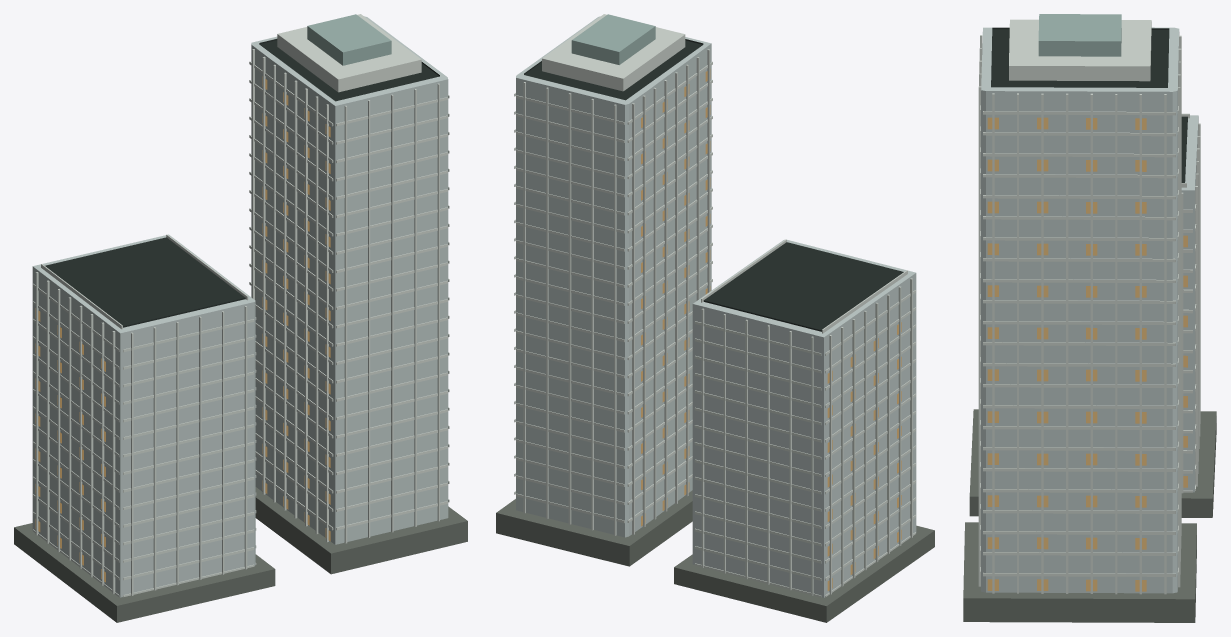
Rendered from venture-east-wall.glb.
3 views of the same model, side by side, from view 1: azimuth 30°, elevation 25°; view 2: azimuth 150°, elevation 25°; view 3: azimuth 270°, elevation 25° (orthographic). The views are drawn at different scales.
Parts seen in each view (by area): view 1: envelope, fins, floor_bands, podium, roof_deck, crown_step, night_windows, crown_screen, parapet; view 2: envelope, fins, floor_bands, podium, roof_deck, crown_step, night_windows, crown_screen, parapet; view 3: envelope, fins, floor_bands, podium, night_windows, crown_step, roof_deck, crown_screen.
Part boxes in pixels (box(x1,y1,x2,y2)): envelope: box(32, 16, 448, 597); fins: box(35, 49, 439, 595); floor_bands: box(33, 61, 449, 596); podium: box(14, 487, 467, 622); roof_deck: box(45, 39, 439, 327); crown_step: box(277, 14, 421, 92); night_windows: box(35, 76, 330, 582); crown_screen: box(307, 14, 391, 65); parapet: box(41, 234, 248, 329); envelope: box(516, 16, 916, 597); fins: box(523, 49, 912, 595); floor_bands: box(514, 61, 915, 597); podium: box(496, 490, 934, 622); roof_deck: box(524, 39, 903, 331); crown_step: box(542, 14, 685, 91); night_windows: box(641, 69, 901, 590); crown_screen: box(571, 14, 655, 64); parapet: box(701, 239, 907, 333); envelope: box(981, 27, 1198, 593); fins: box(978, 35, 1200, 594); floor_bands: box(980, 105, 1196, 576); podium: box(963, 409, 1216, 622); night_windows: box(987, 117, 1187, 591); crown_step: box(1009, 19, 1151, 81); roof_deck: box(991, 27, 1187, 182); crown_screen: box(1038, 14, 1121, 56).
Size of the model in its own units: 128 by 172 by 70.87.
